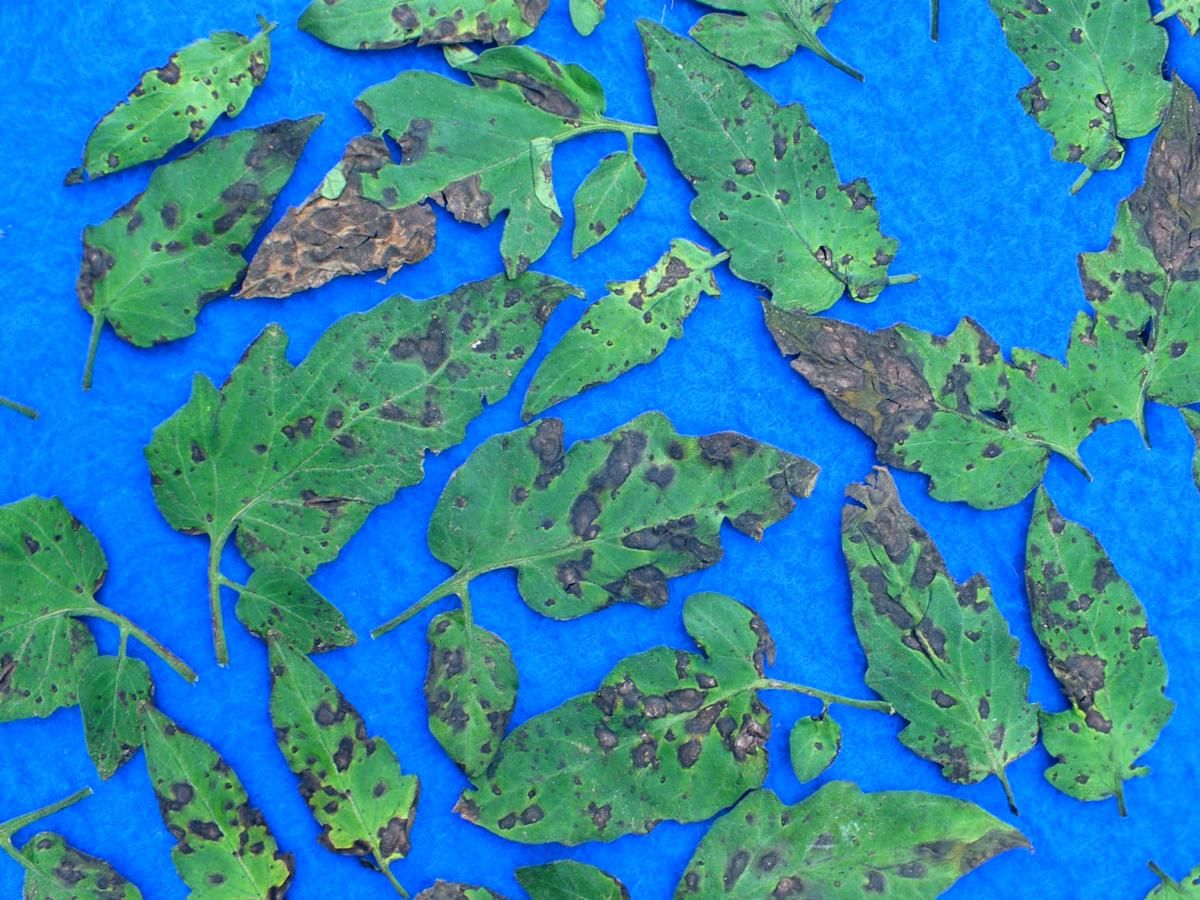Tomato Early blight leaf: (110, 180, 676, 640), (395, 314, 835, 690), (748, 184, 1107, 571), (407, 576, 822, 900), (769, 435, 1070, 810), (19, 83, 384, 385), (610, 0, 904, 362), (602, 694, 1050, 900), (934, 474, 1200, 820), (0, 0, 315, 240), (210, 603, 460, 900), (476, 215, 753, 432), (281, 0, 632, 133), (533, 0, 864, 121), (516, 118, 685, 275), (386, 825, 667, 900), (518, 831, 653, 900)
